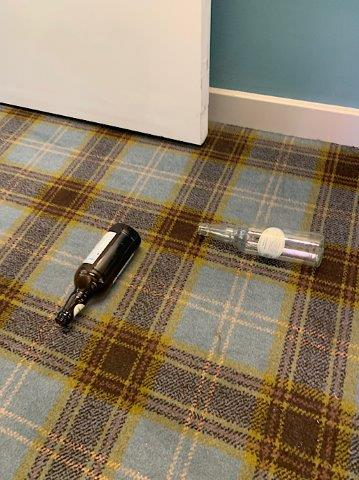botolkaca: (56, 224, 141, 325), (198, 224, 323, 266)
